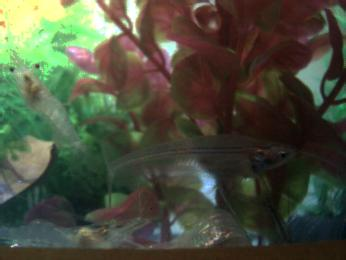glassfish: (99, 134, 297, 193)
siberian prawn: (8, 53, 92, 161), (2, 211, 146, 251)
